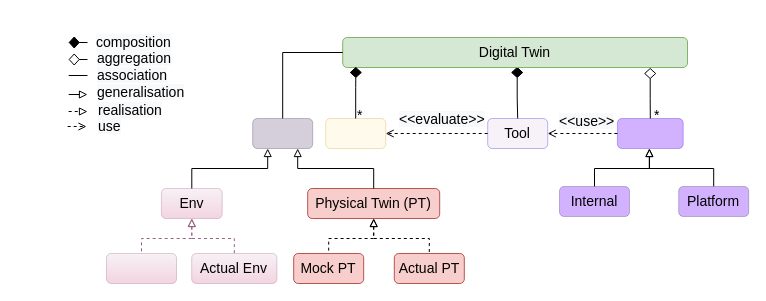
The diagram is 766 pixels wide and 301 high, and some of its shapes have lost their labels. The centre of each missing label's shape, as x and y in pixels:
Data: (x=282, y=133)
Mock Env: (x=141, y=268)
Model: (x=355, y=133)
Service: (x=649, y=133)
